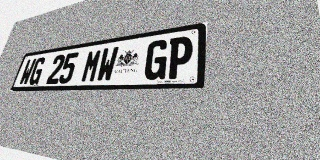2: (46, 54, 66, 84)
5: (58, 52, 79, 84)
G: (143, 39, 169, 80), (27, 57, 47, 85)
M: (80, 48, 103, 83)
P: (165, 35, 194, 79)
W: (95, 46, 119, 82), (18, 58, 37, 85)
